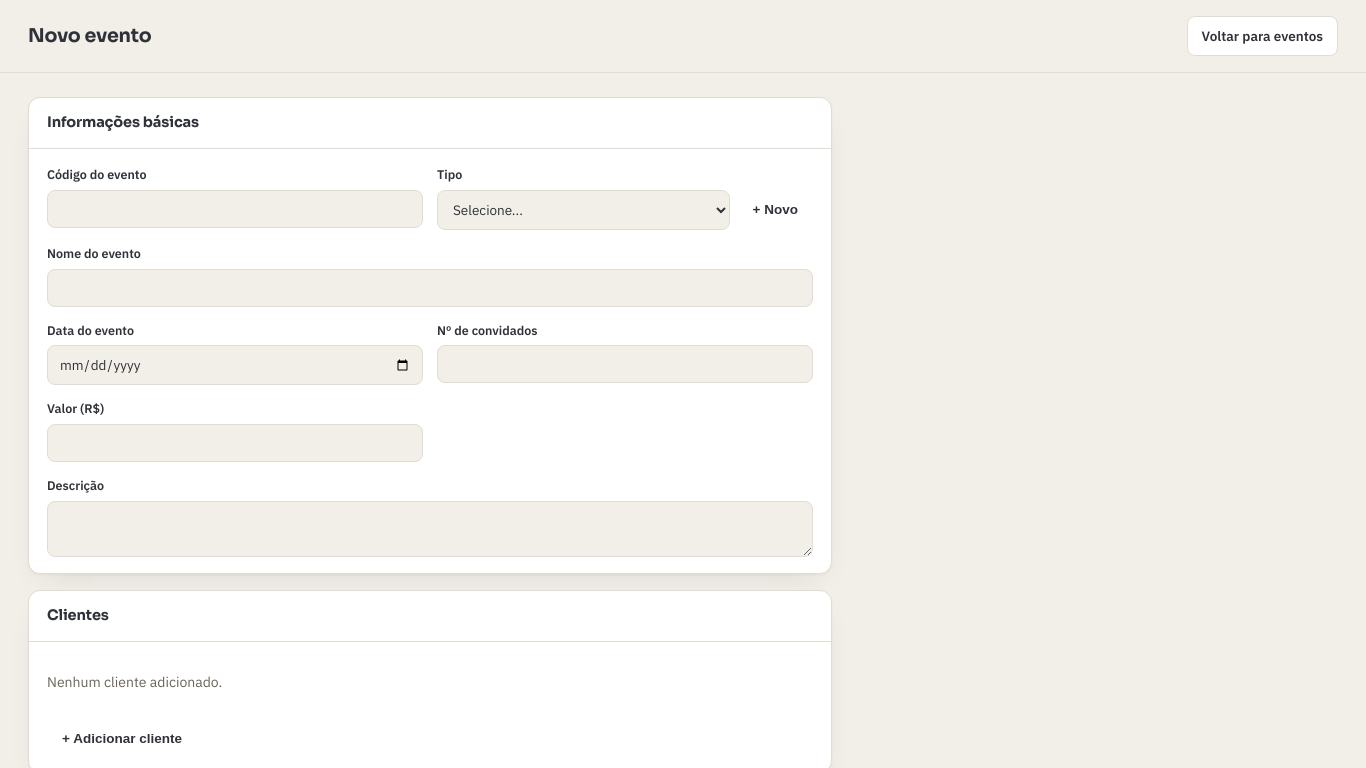
EventFormPage › mostra toast de erro quando a submissão falha, sem limpar os campos
Expected: the dropdown labelled "Tipo" is shown, [437,190,730,230]
In the field labelled "Código do evento": [235, 209] box [47,190,423,228], type "EVT-099"
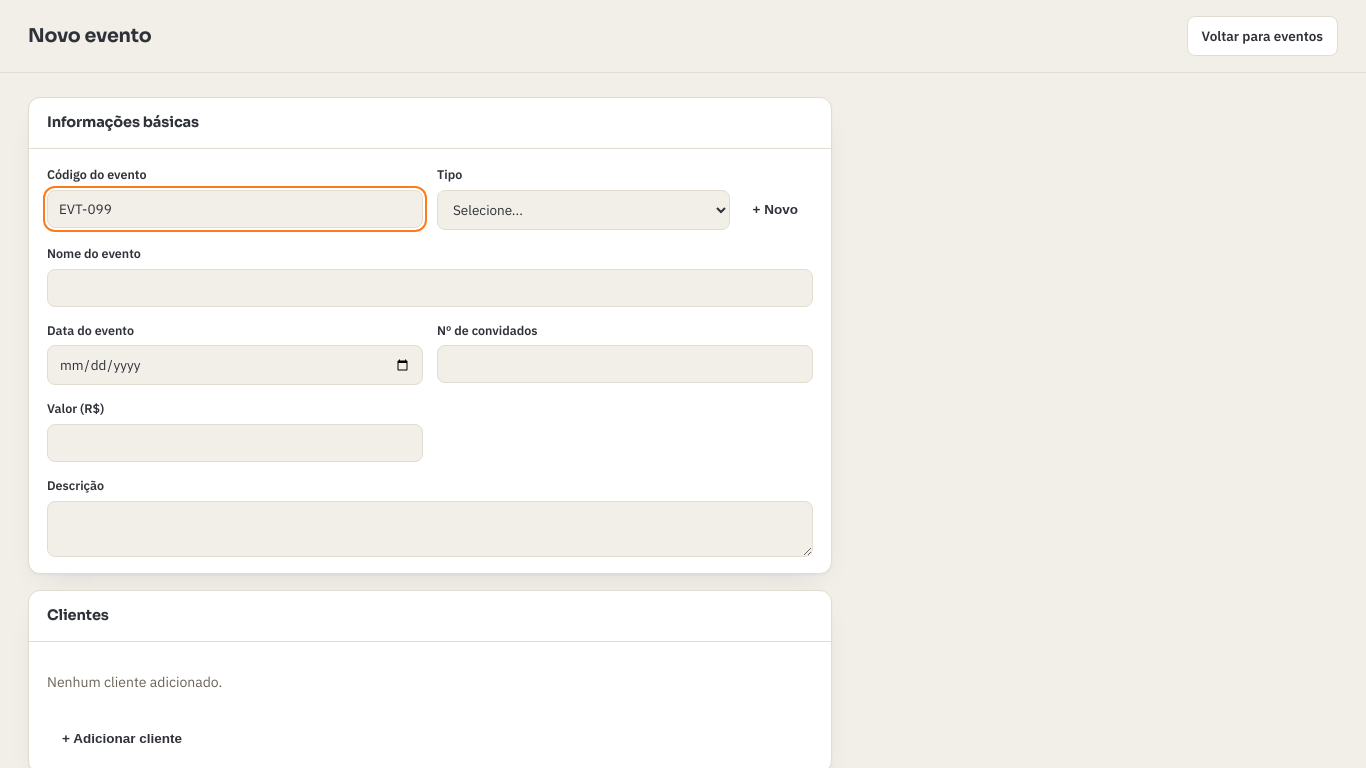
Select "PHOTO_SHOOT" in the dropdown labelled "Tipo": [583, 210] box [437,190,730,230]
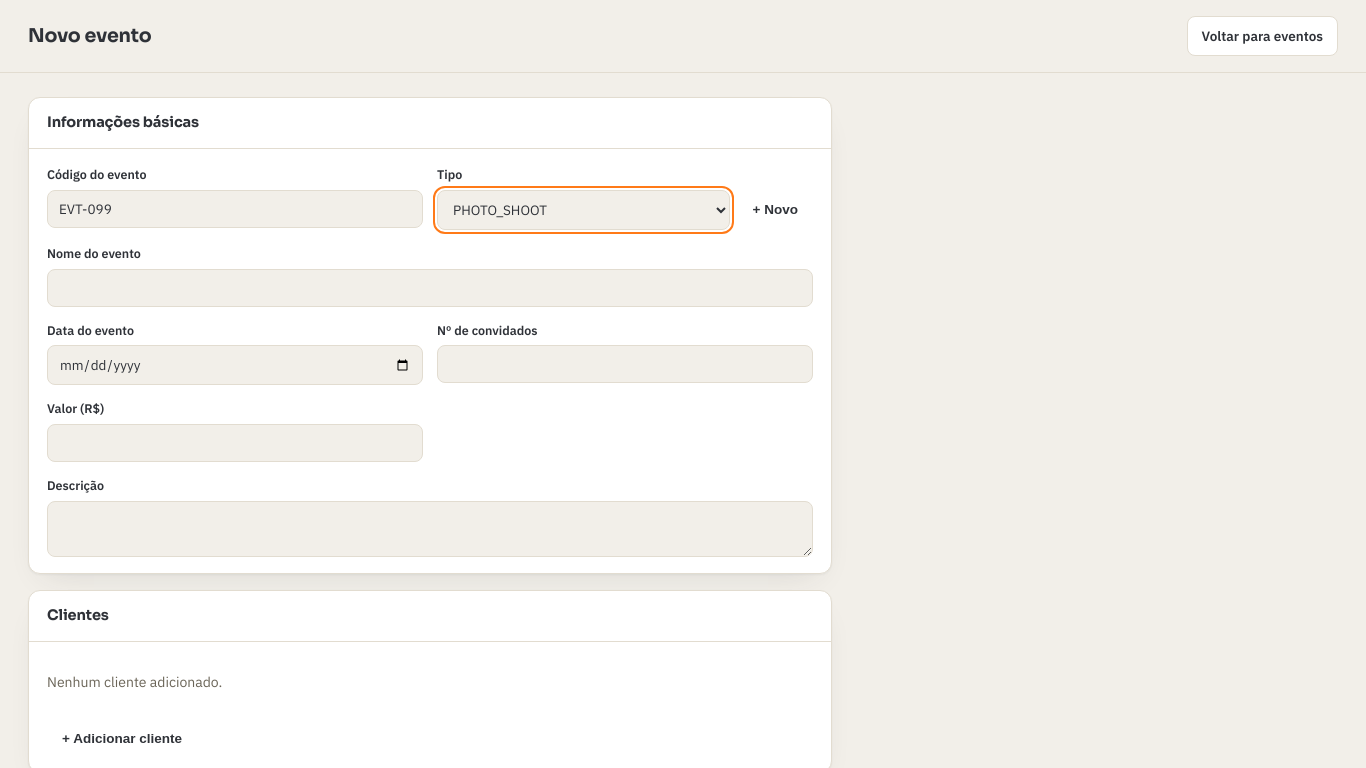
In the field labelled "Nome do evento": [430, 288] box [47,268,813,306], type "Ensaio Externo"
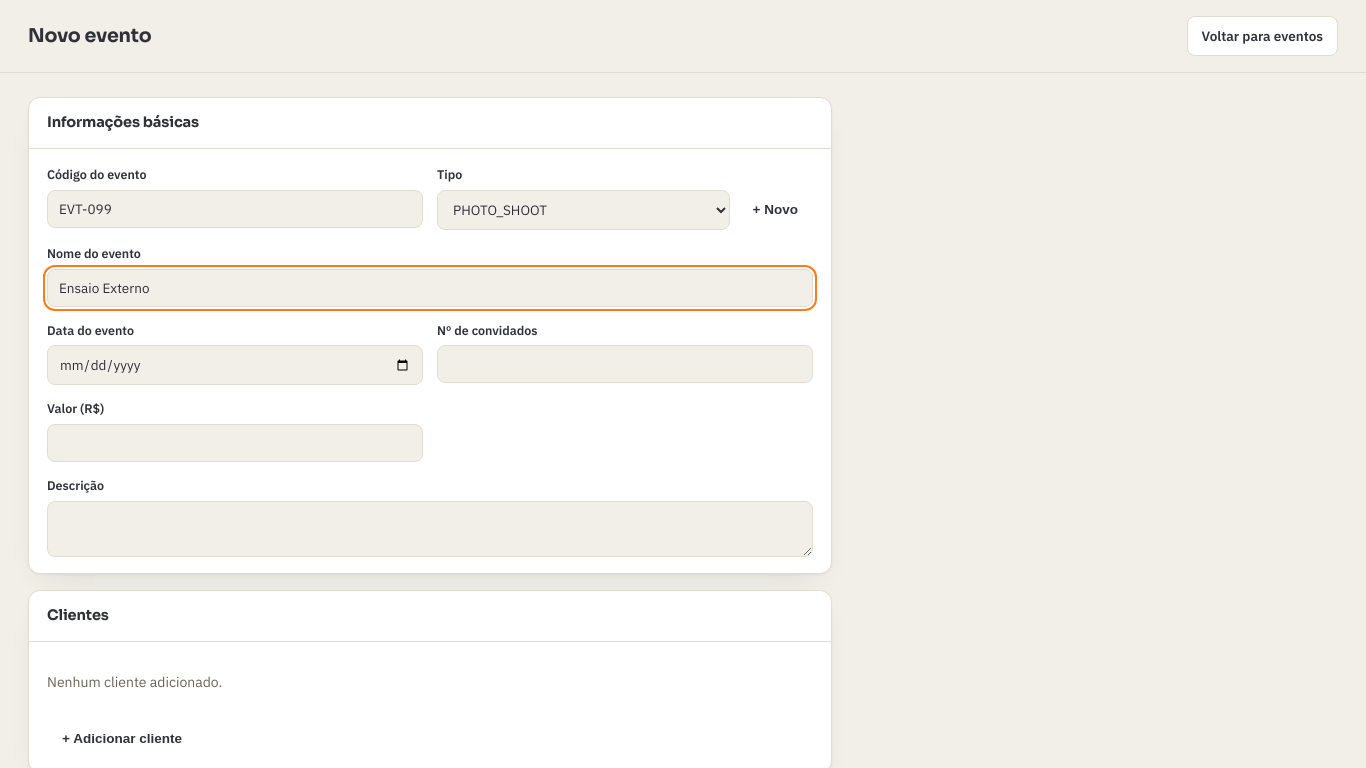
In the date field labelled "Data do evento": [235, 365] box [47,345,423,385], type "2026-11-20"
(page scrolled)
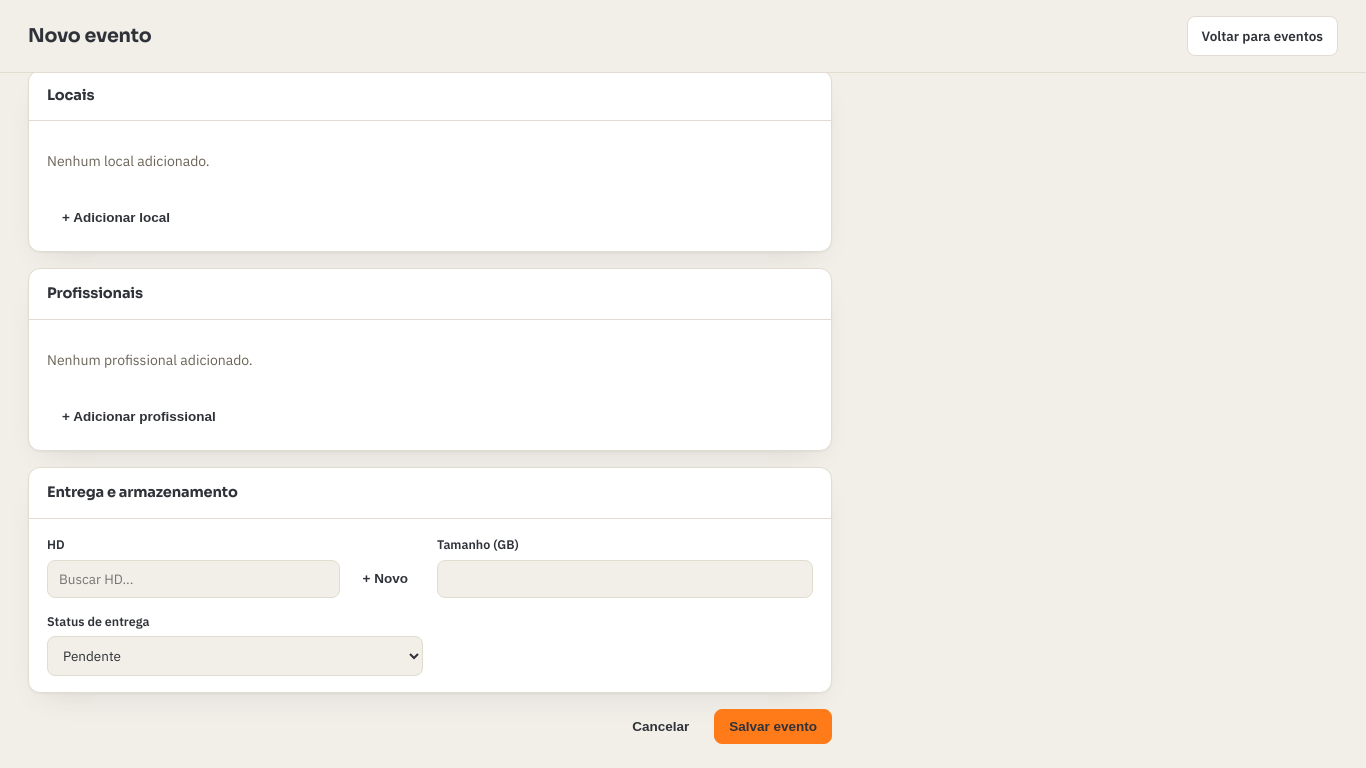
Click the button "Salvar evento": [773, 727] box [714,709,832,744]
(page scrolled)
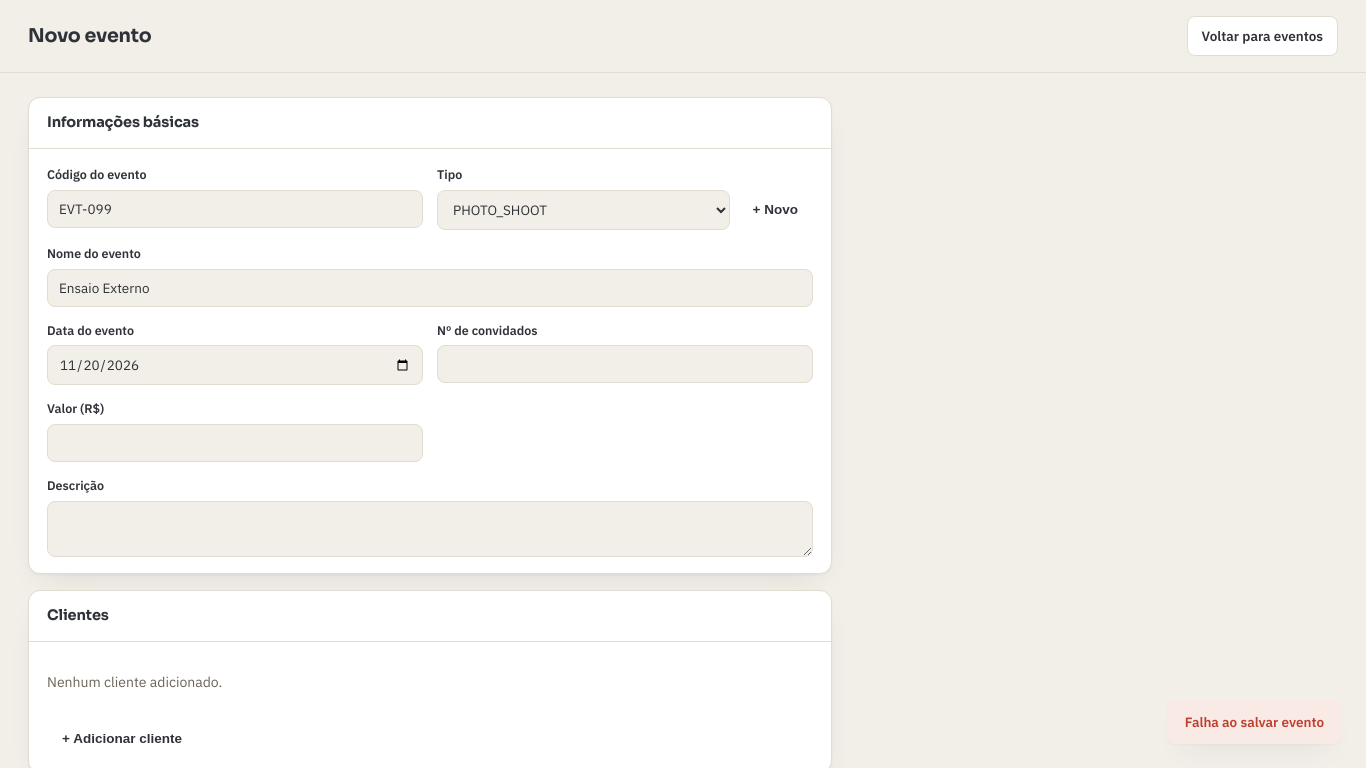
Now the text "Falha ao salvar evento" is shown, box [1167,700,1342,744]
